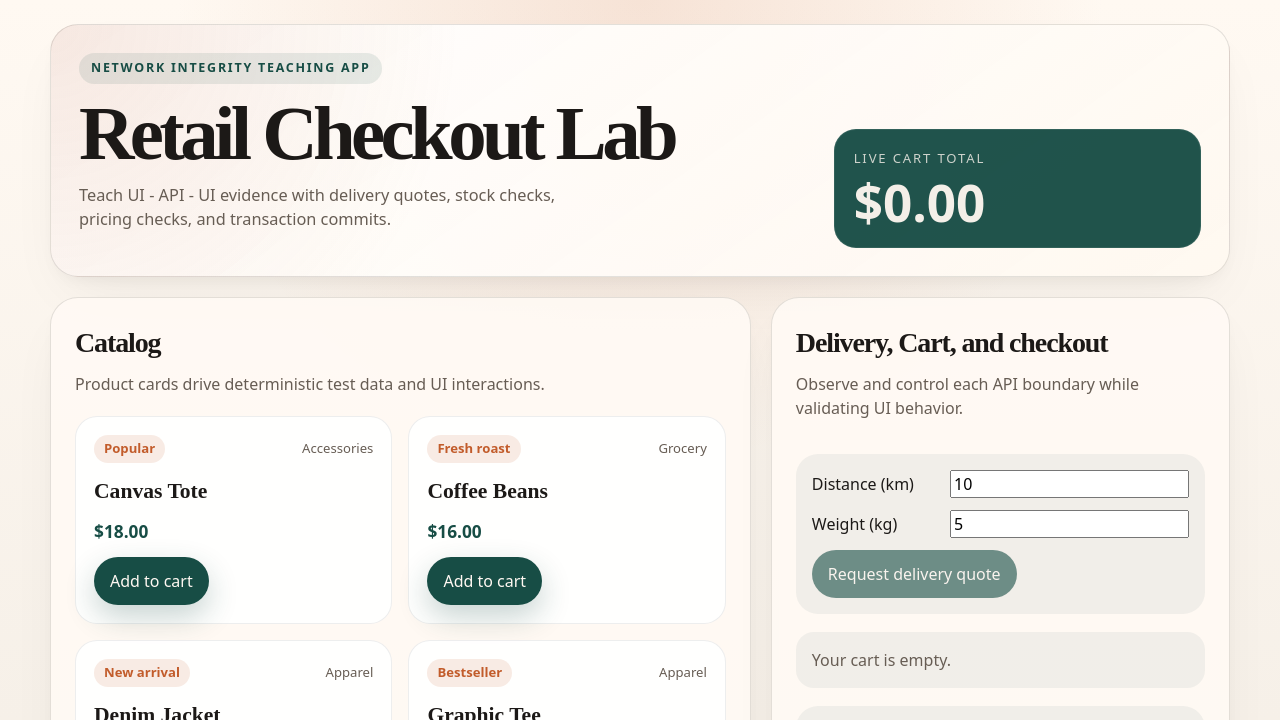
Scenario: Day 3: Delivery Quote Behavior › control mode: mocks a deterministic delivery success response
Expected: the element with test id "product-grid" is shown, [75,416,726,719]
Click the button with test id "add-to-cart" below "$16.00" at (485, 581), box [427,557,542,605]
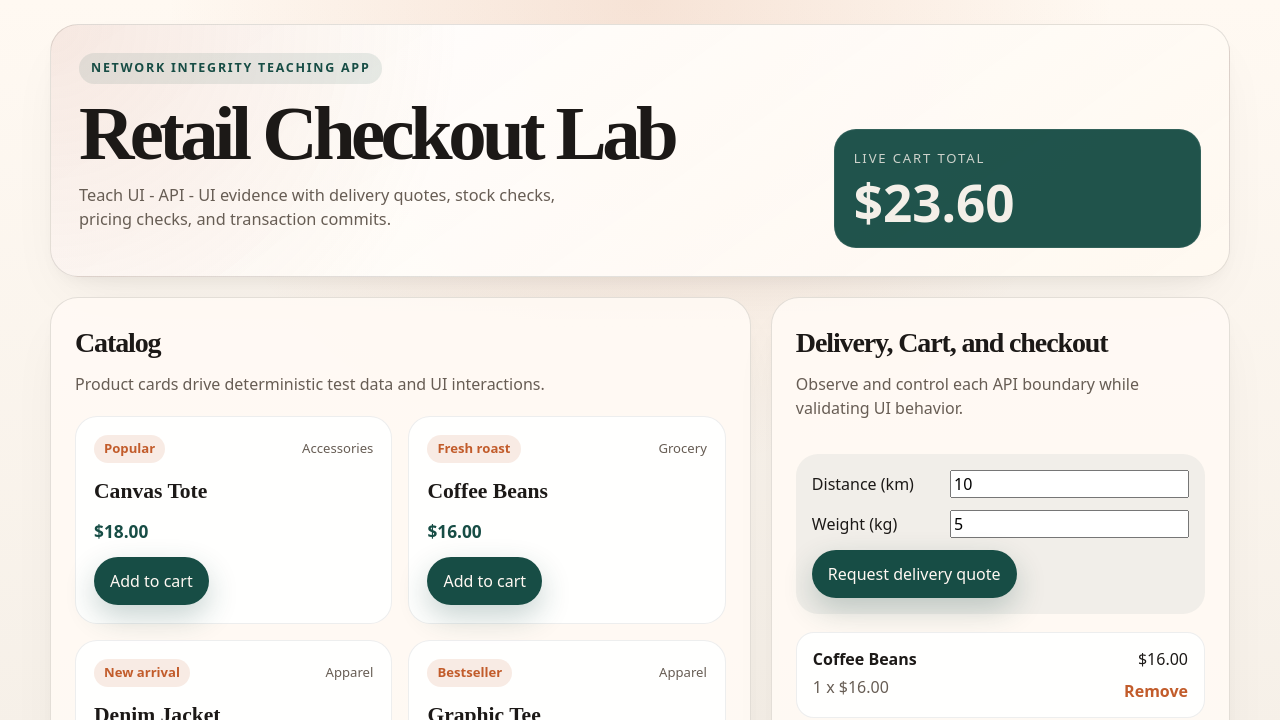
Replace the text in the number field with test id "distance-input" with "4" at (1070, 484), box [950,470,1189,498]
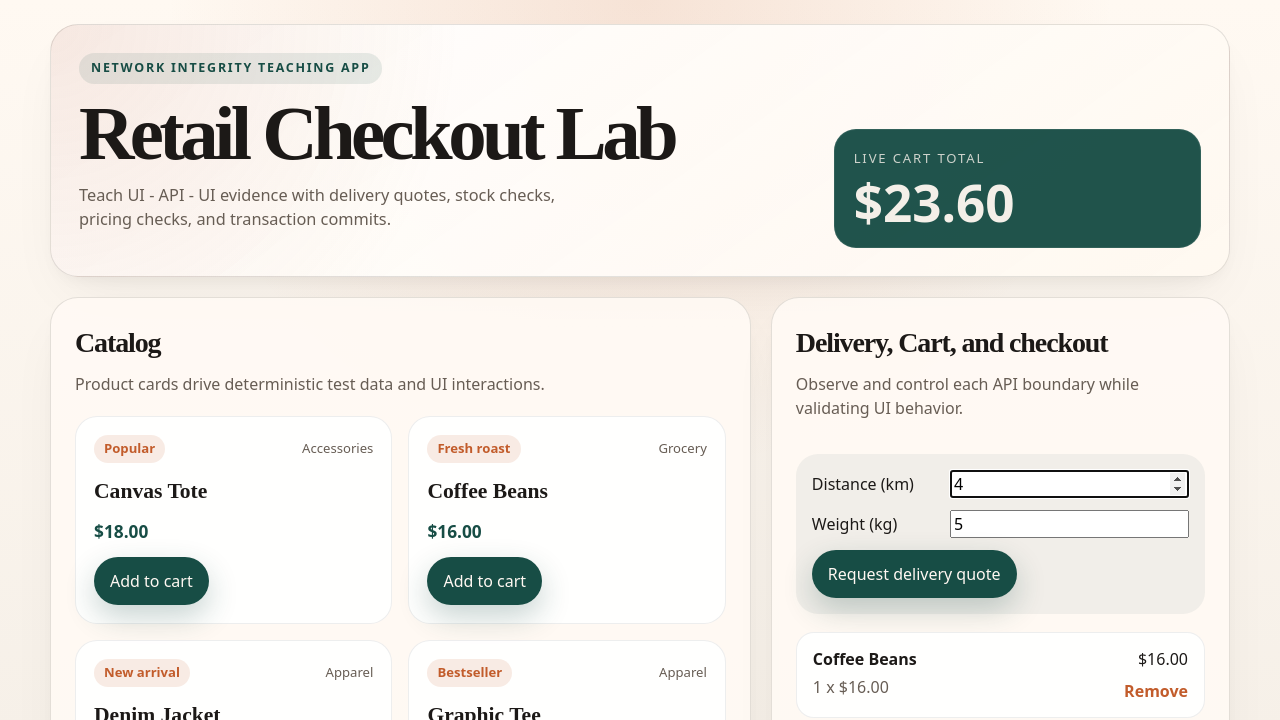
Replace the text in the number field with test id "weight-input" with "2" at (1070, 524), box [950,510,1189,538]
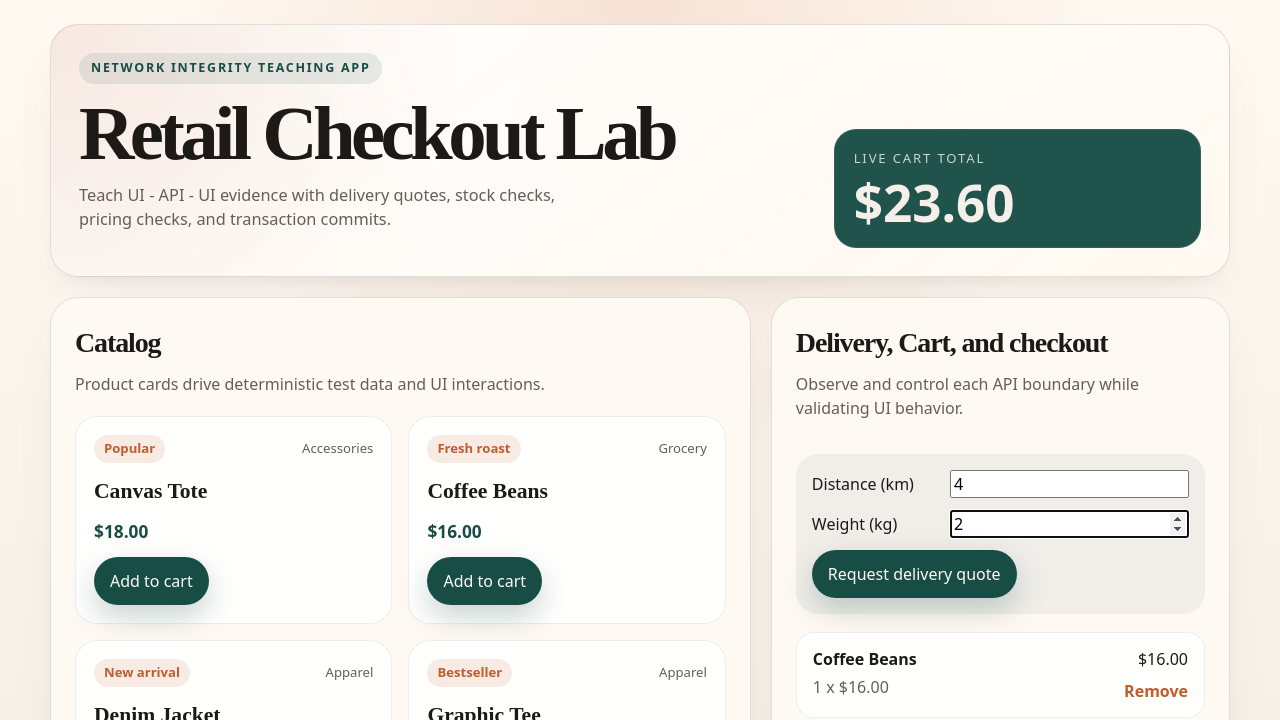
Click the button with test id "btn-delivery-quote" at (915, 574), box [812,550,1017,598]
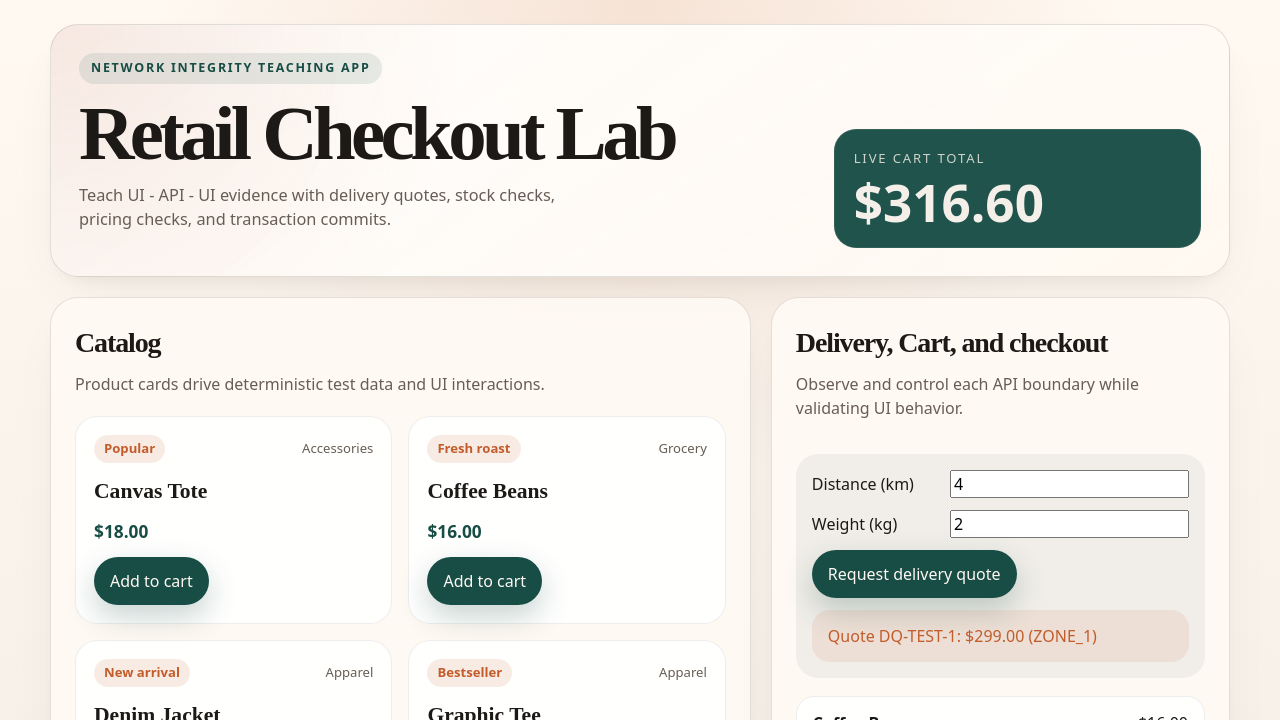
Now the text with test id "delivery-fee" shows "299", box [812,610,1189,662]
